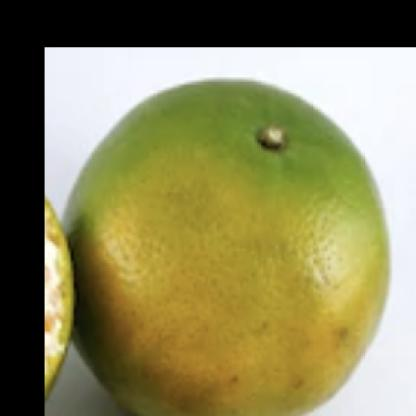fresh: (66, 79, 393, 416)
